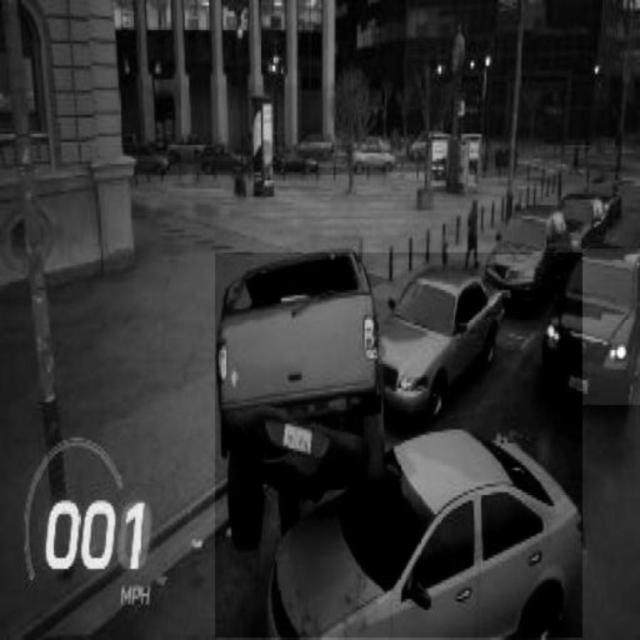accident: (216, 253, 583, 637)
vehicle: (384, 258, 508, 420), (539, 249, 640, 405), (486, 205, 572, 311)
